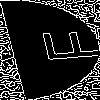E: (25, 25, 100, 65)
